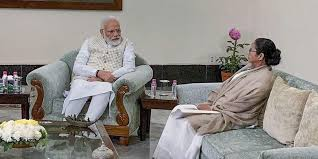Caution: (65, 16, 282, 130)
